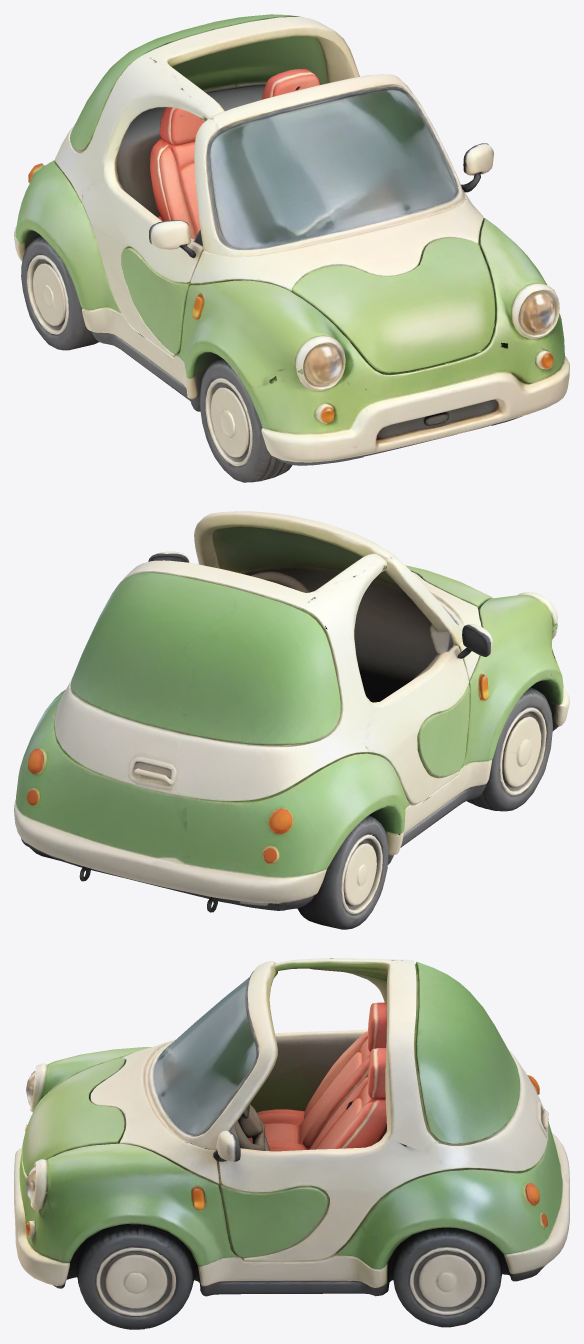
Rendered from sprout.glb.
3 renders of one model, top to bottom at view 1: azimuth 30°, elevation 25°; view 2: azimuth 150°, elevation 25°; view 3: azimuth 270°, elevation 25°, orthographic. The views are drawn at different scales.
Visible parts, largest first — view 1: model; view 2: model; view 3: model.
Boxes of the visible parts, <box> form: model: <box>14,14,569,482</box>; model: <box>14,511,569,929</box>; model: <box>14,958,569,1329</box>.
Bounding box in the file's own units: 1.23 × 1.05 × 1.89.
1 material, 1 textured.
